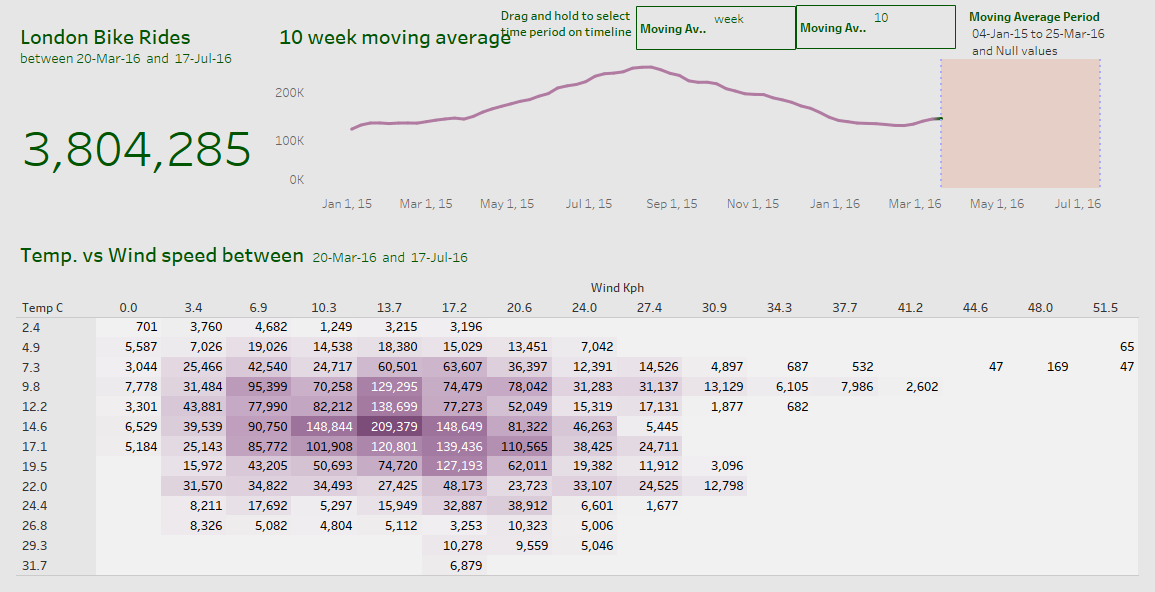

Layout of this report page (visuals, bound fields, positions):
{"tool":"tableau","page":{"name":"Dashboard 1","canvas":[1000,1000],"units":"permille","ordinal":0},"visuals":[{"type":"text","box":[431.2,1.7,148.9,77.7]},{"type":"parameter","param":"[Parameters].[Parameter 2]","box":[689.2,8.4,138.5,74.3]},{"type":"parameter","param":"[Parameters].[Parameter 1]","box":[550.6,10.1,138.5,74.3]},{"type":"filter","title":"MovingAVG","param":"[federated.0vthca80jh3emq19y91hn0c7ioaq].[none:Calculation_576742230161297408:qk","box":[839,11.8,145.5,99.7]},{"type":"worksheet","title":"TotalRides","mark":"Automatic","box":[6.9,13.5,224.2,368.2]},{"type":"worksheet","title":"MovingAVG","mark":"Automatic","rows":["Calculation1"],"cols":["Calculation_576742230161297408"],"box":[231.1,13.5,761.9,368.2]},{"type":"worksheet","title":"HeatMap","mark":"Square","rows":["temp real C (bin)"],"cols":["Wind Speed Kph (bin)"],"box":[6.9,381.7,986.1,604.8]}]}

Visuals, with their boxes on the dashboard's canvas, which has no fixed pixel size, in thousandths of its width and height (x1, y1, x2, y2). These are canvas units, not pixel positions in the 1155x592 screenshot, which may show the page scaled, cropped or inside an application window:
text: (x1=431, y1=2, x2=580, y2=79)
parameter: (x1=689, y1=8, x2=828, y2=83)
parameter: (x1=551, y1=10, x2=689, y2=84)
"MovingAVG" filter: (x1=839, y1=12, x2=984, y2=112)
"TotalRides" worksheet: (x1=7, y1=14, x2=231, y2=382)
"MovingAVG" worksheet: (x1=231, y1=14, x2=993, y2=382)
"HeatMap" worksheet (Square marks): (x1=7, y1=382, x2=993, y2=986)
